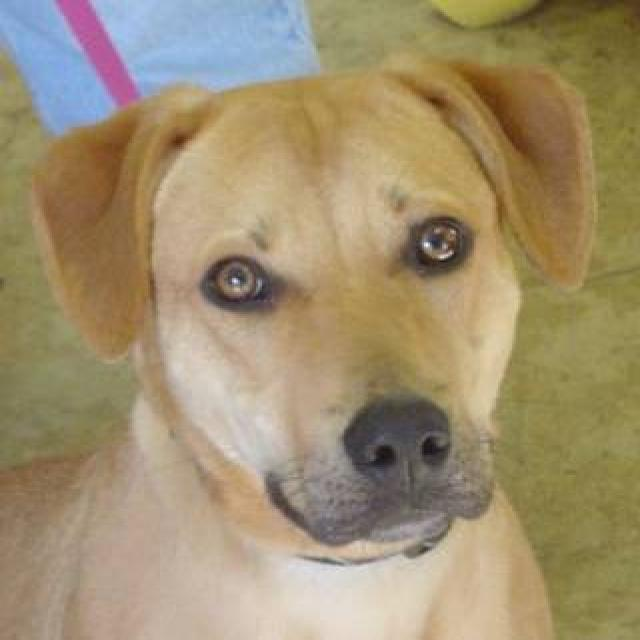dog: (0, 48, 598, 638)
